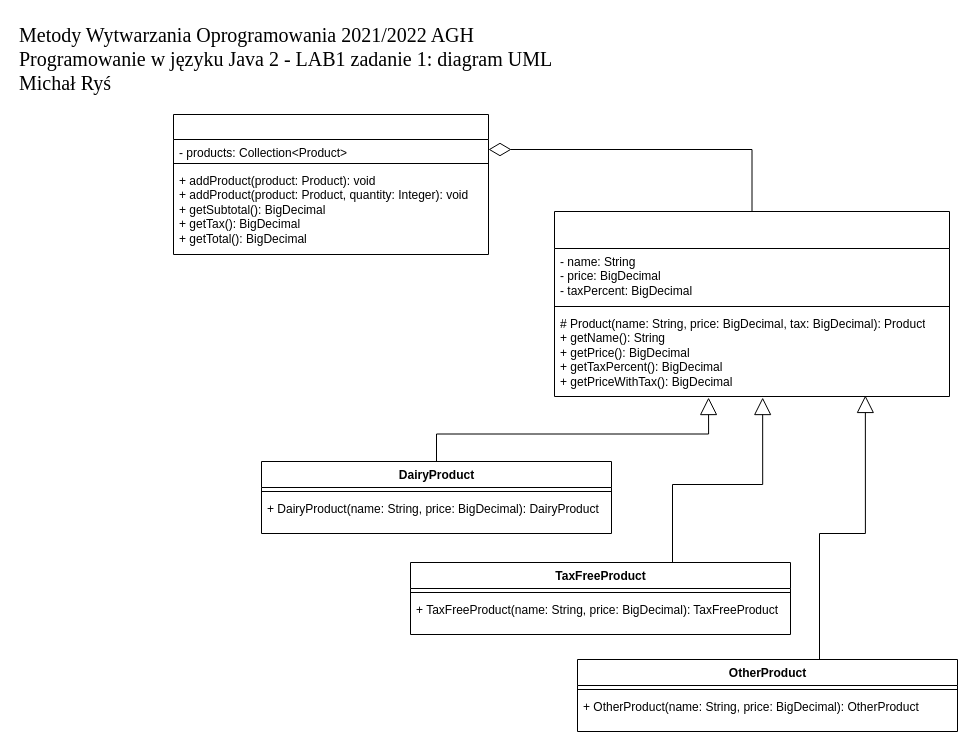
Image size: 975x751. Some labels were removed from this diagram. The shapes that lost their labels are listed below. From the top down, each one's box as (x1, y1, x2, y2) in pixels, then its label:
(172, 114, 488, 254): Invoice
(554, 210, 950, 396): <<abstract>> Product
